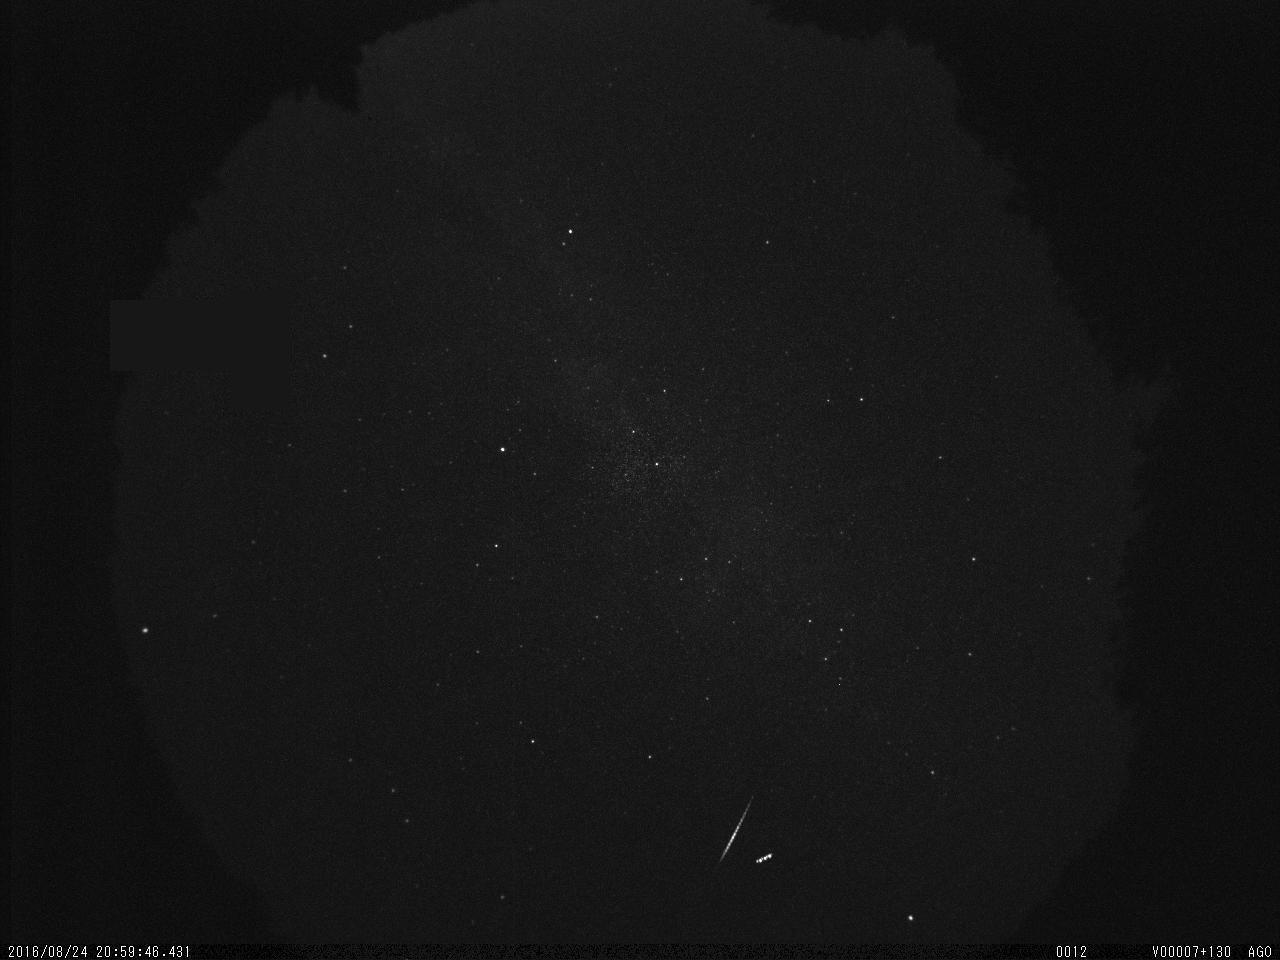Meteor: (715, 790, 758, 869)
